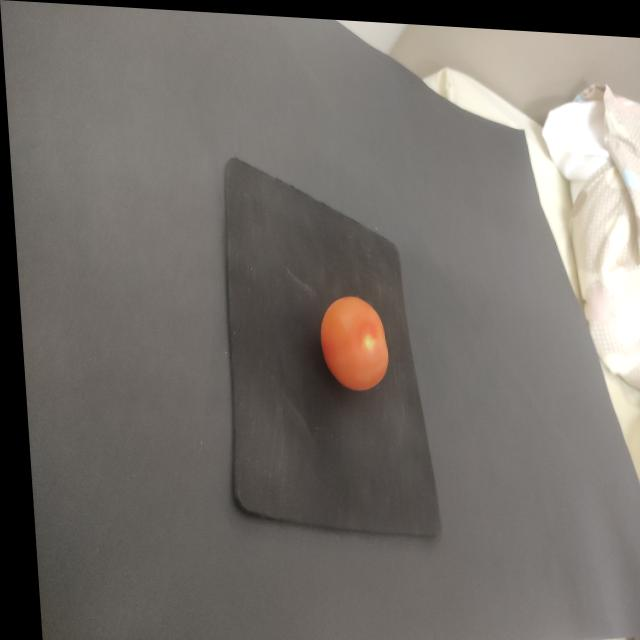sari: (306, 277, 400, 412)
